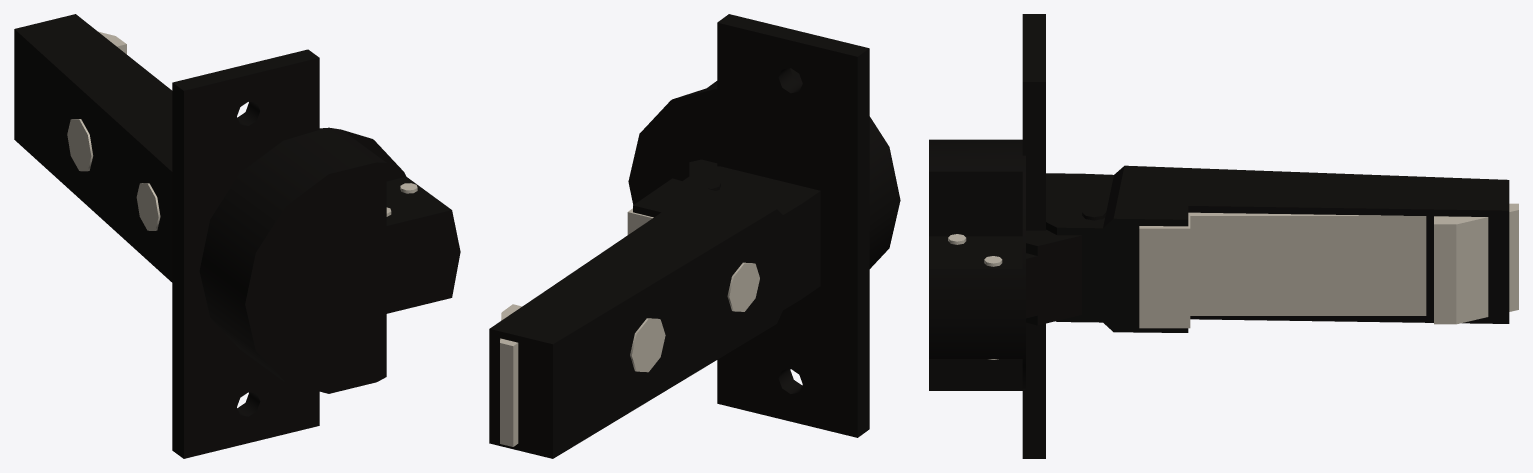
3 views of the same model, side by side, from view 1: azimuth 30°, elevation 25°; view 2: azimuth 150°, elevation 25°; view 3: azimuth 270°, elevation 25° (orthographic). The views are drawn at different scales.
Parts seen in each view (by area): view 1: bau0015166285-2, bau0015166656-2; view 2: bau0015166285-2, bau0015166656-2, bau0019426112-1; view 3: bau0019426112-1, bau0015166656-2, bau0015166285-2, bau0015167363-2.
Part boxes in pixels (x1,y1,x2,y2): bau0015166285-2: [172, 49, 460, 458]; bau0015166656-2: [14, 14, 172, 282]; bau0015166285-2: [628, 14, 900, 437]; bau0015166656-2: [489, 166, 820, 458]; bau0019426112-1: [500, 208, 653, 446]; bau0019426112-1: [1139, 203, 1518, 328]; bau0015166656-2: [1046, 165, 1509, 332]; bau0015166285-2: [929, 14, 1045, 458]; bau0015167363-2: [1026, 229, 1081, 325].
Bounding box in the file's own units: 37.46 × 57 × 80.8.
